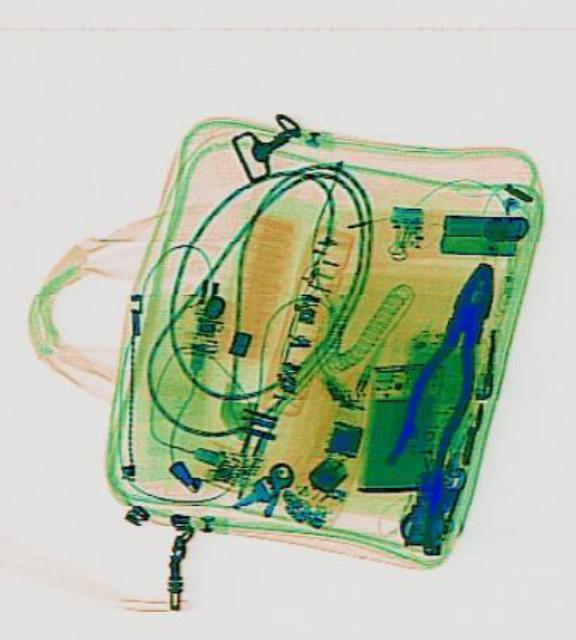Pliers: (379, 253, 512, 482)
